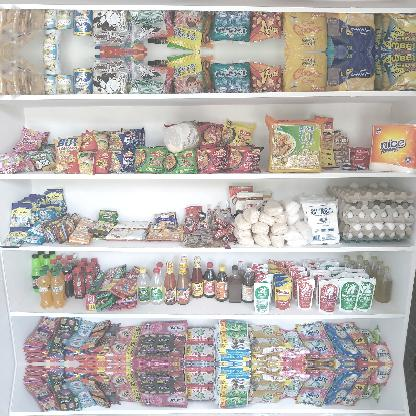Lady-s-Choice: (164, 121, 200, 153)
